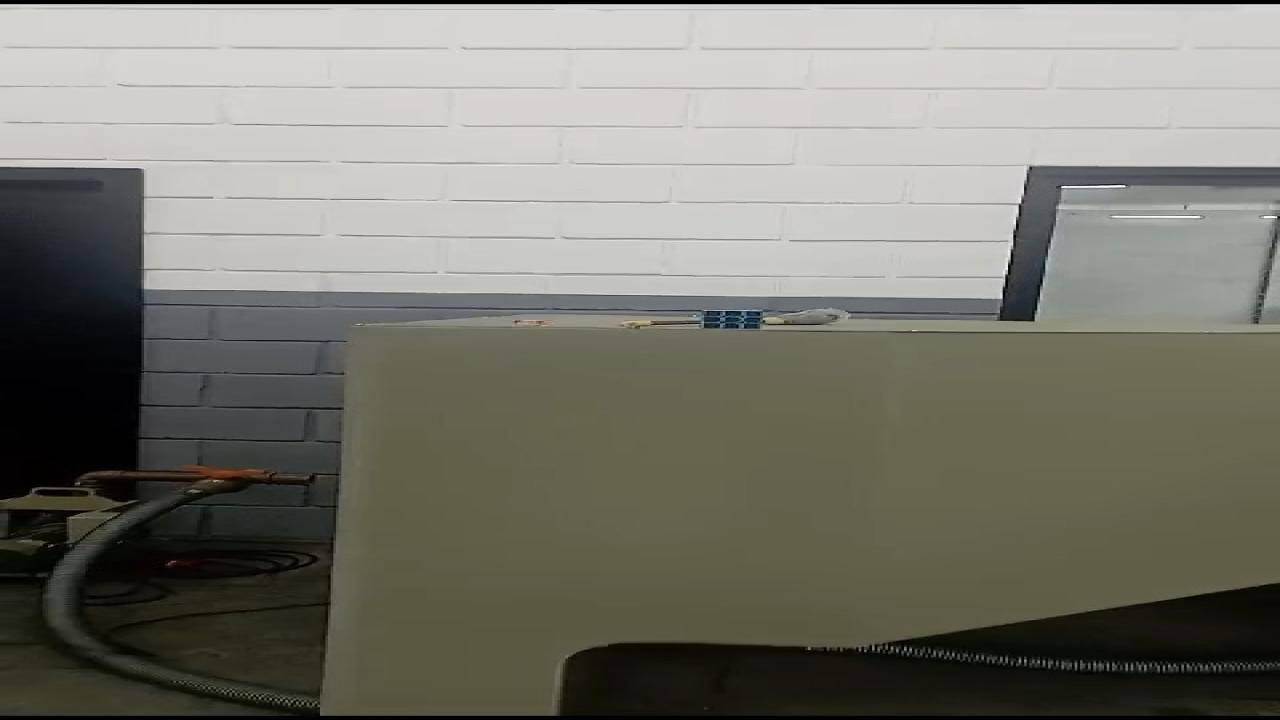Cube: (702, 310, 762, 329)
